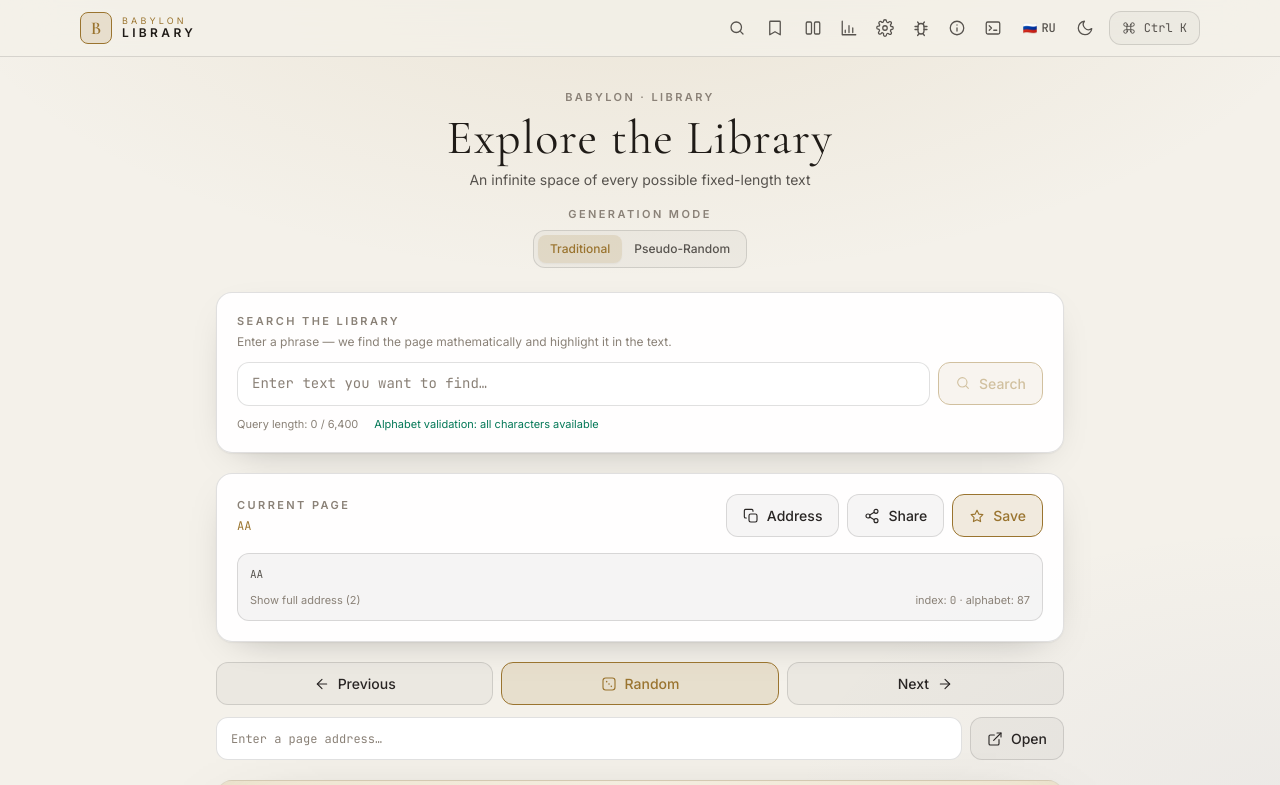
it: App (integration) › searches from the main page and physically highlights the phrase
Type "Привет, мир!" into the text box with placeholder "Enter text you want to find…". click: (584, 384)
box: [237, 362, 930, 406]
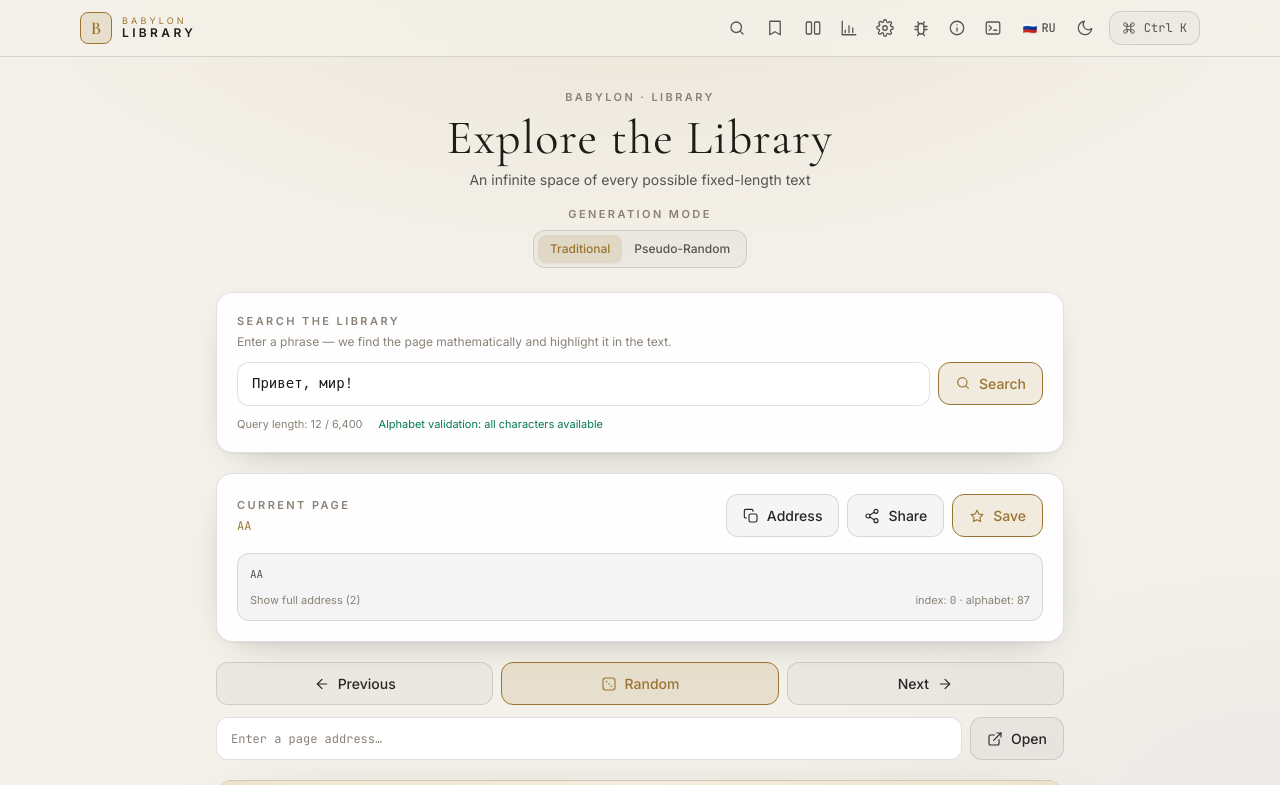
Click the button "Search". click: (990, 383)
box: [938, 362, 1043, 404]
(page scrolled)
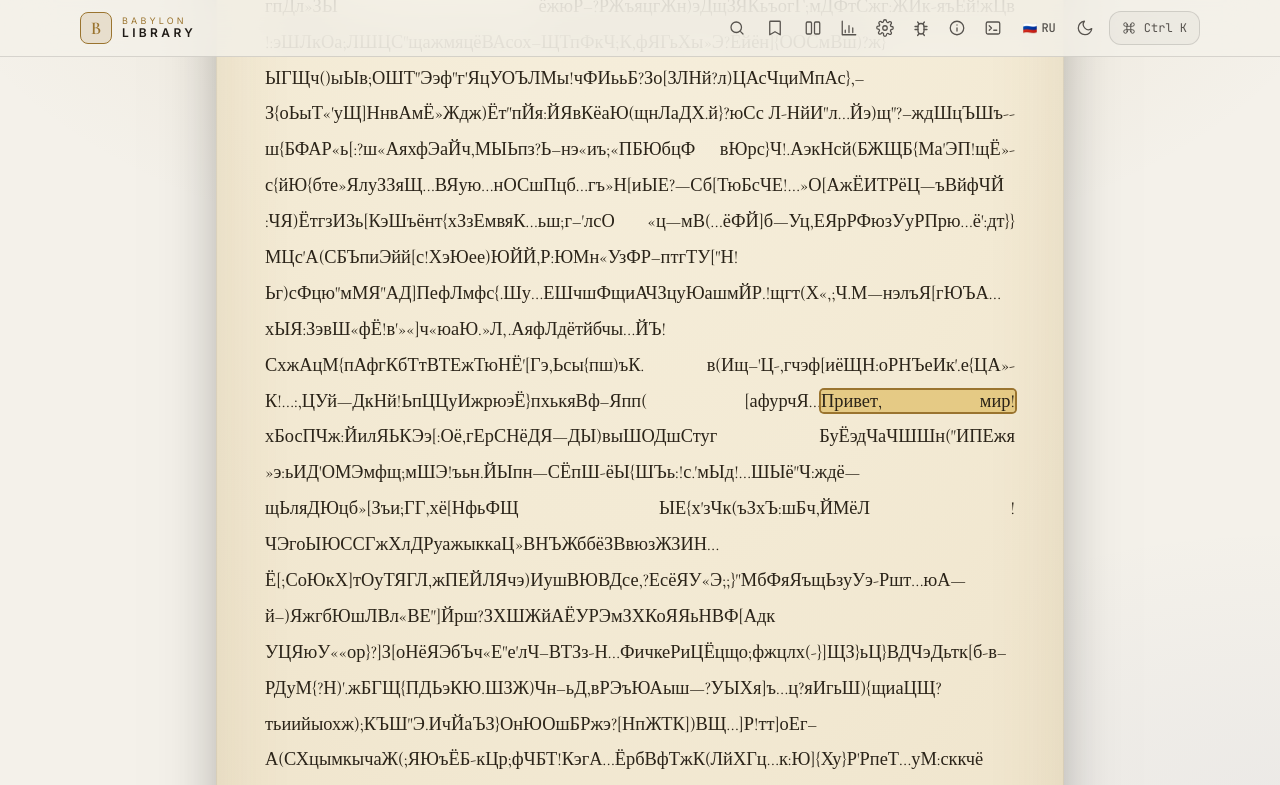
Result: the text "Привет, мир!" is shown at [821, 390, 1015, 412]
